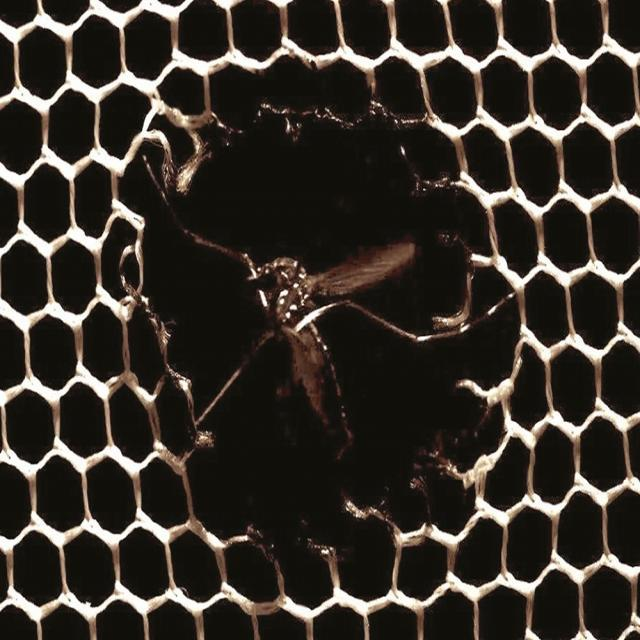fence line: (141, 130, 515, 532)
